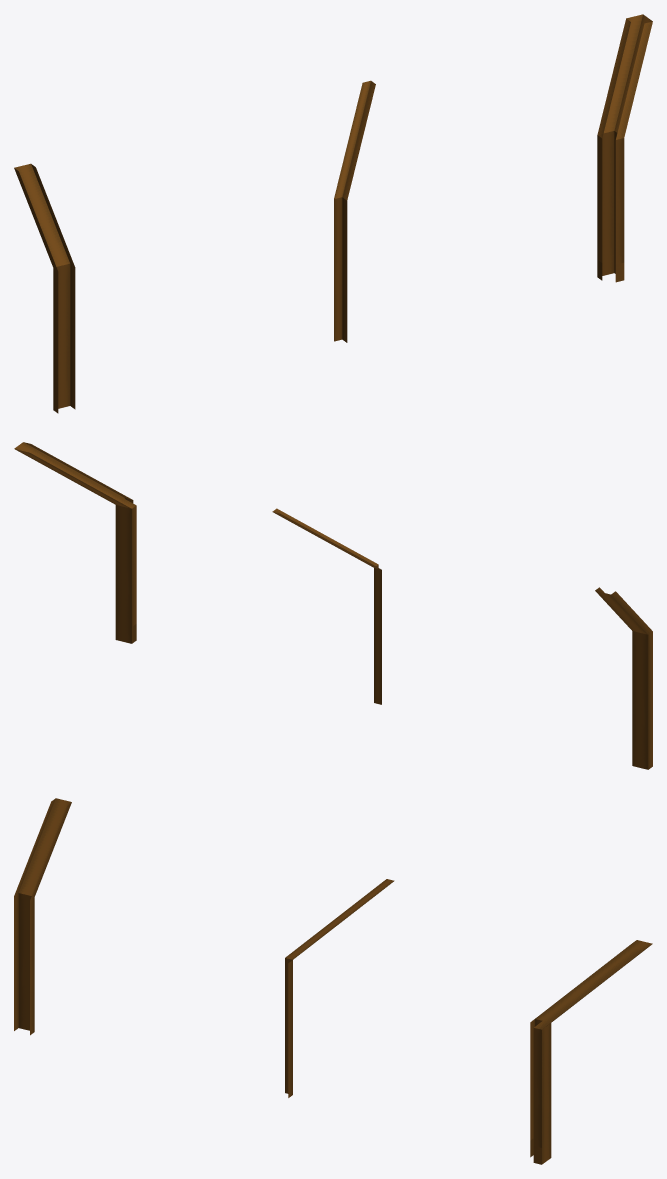
File: BeamsTileset.glb
3 views of the same model, one above another, from view 1: azimuth 30°, elevation 25°; view 2: azimuth 150°, elevation 25°; view 3: azimuth 330°, elevation 25° (orthographic). The views are drawn at different scales.
Parts seen in each view (by area): view 1: BeamCornerOut-col, BeamStraight-col, BeamCornerIn-col; view 2: BeamCornerOut-col, BeamStraight-col, BeamCornerIn-col; view 3: BeamStraight-col, BeamCornerOut-col, BeamCornerIn-col.
Part boxes in pixels (x1=…): BeamCornerOut-col: x1=597, y1=14, x2=652, y2=282; BeamStraight-col: x1=14, y1=163, x2=75, y2=413; BeamCornerIn-col: x1=334, y1=80, x2=375, y2=342; BeamCornerOut-col: x1=14, y1=442, x2=136, y2=643; BeamStraight-col: x1=595, y1=587, x2=652, y2=769; BeamCornerIn-col: x1=272, y1=508, x2=381, y2=704; BeamStraight-col: x1=14, y1=798, x2=71, y2=1035; BeamCornerOut-col: x1=530, y1=940, x2=652, y2=1164; BeamCornerIn-col: x1=285, y1=879, x2=394, y2=1097.
Bounding box in the file's own units: 9.25 × 3 × 1.25.
Materials: 1 (1 with a texture image).
